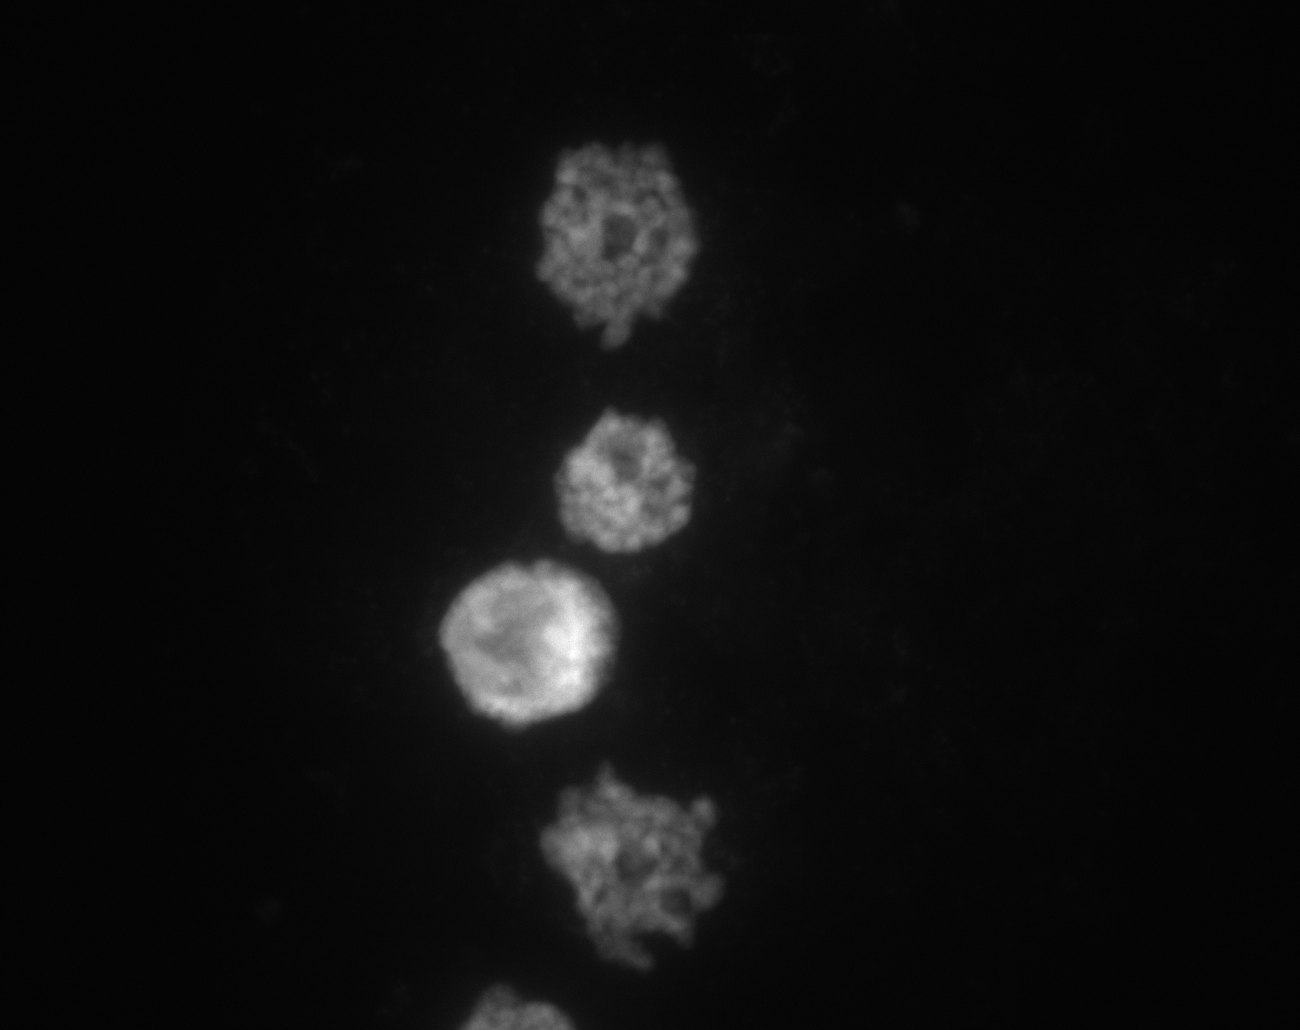Chromosomes: (489, 722, 804, 1008), (493, 102, 730, 360)
Others: (398, 536, 642, 751), (524, 373, 729, 568)
